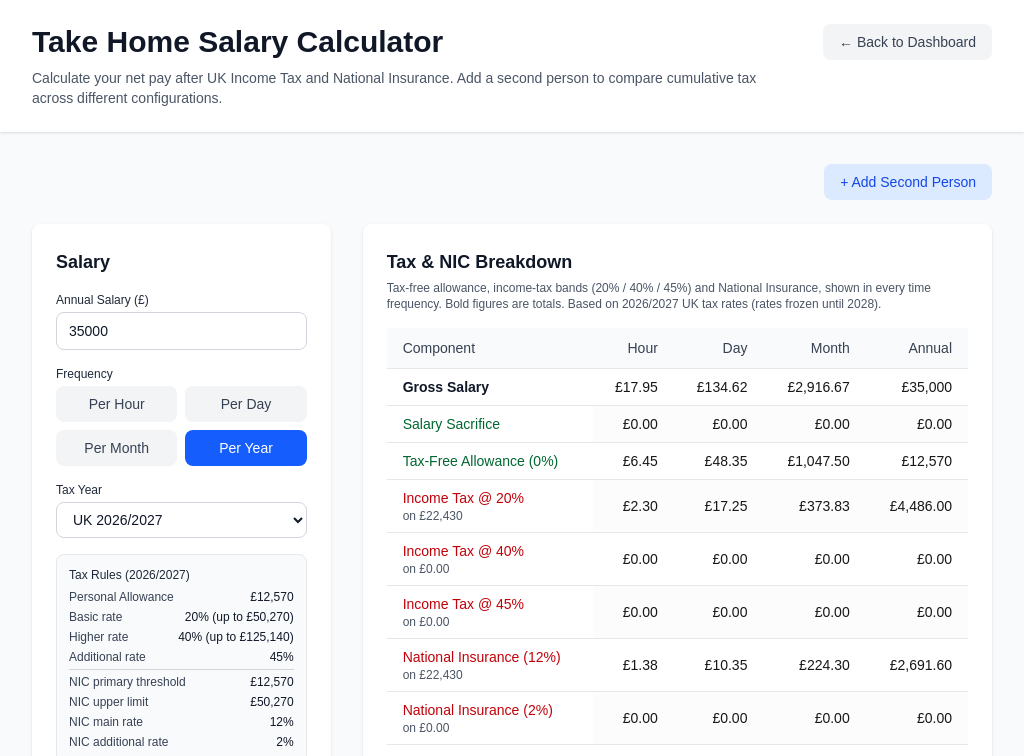
Test: TakeHomeSalaryCalculator › switches frequency to monthly and shows converted input value
Click the button "Per Month".
click(117, 448)  # box top-left (56, 430), bottom-right (177, 466)
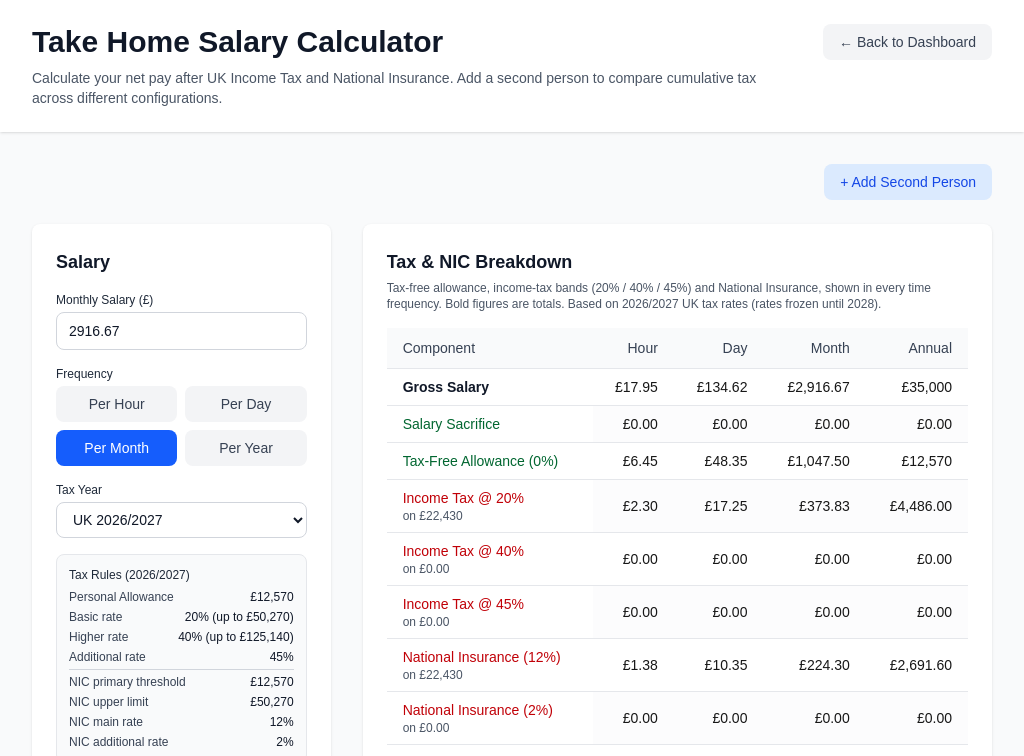
expect the number field labelled "Monthly Salary (£)" holds "2916.67": met, box top-left (56, 312), bottom-right (307, 350)
